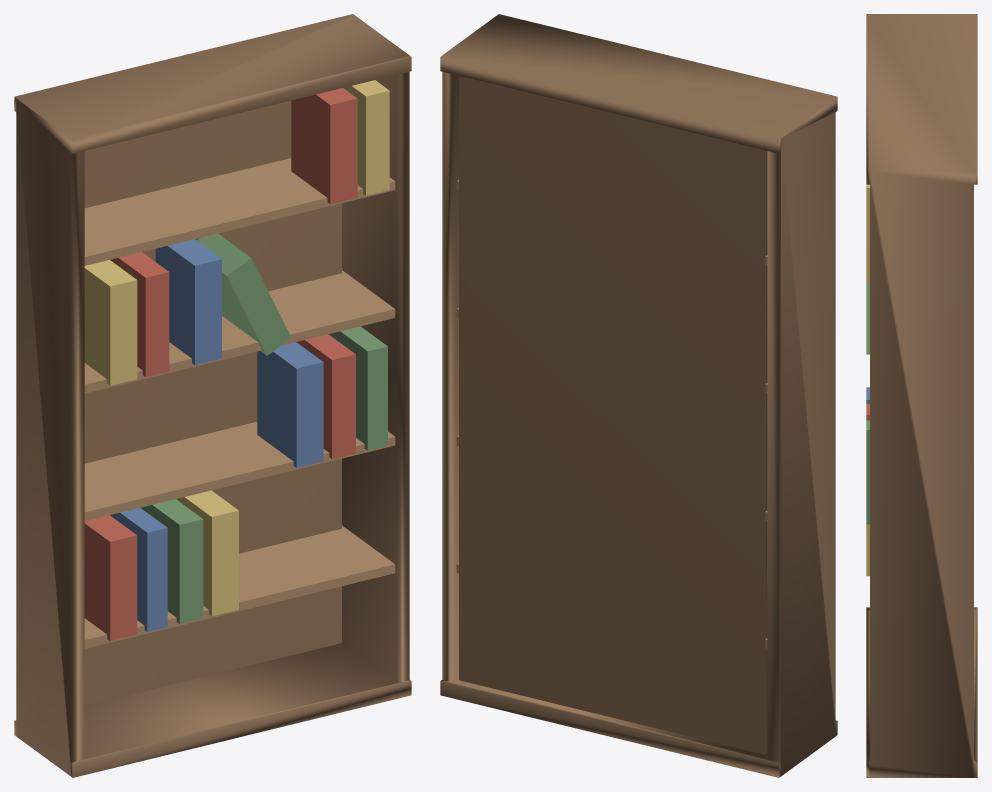
Rendered from bookshelf.glb.
3 renders of one model, left to right at view 1: azimuth 30°, elevation 25°; view 2: azimuth 150°, elevation 25°; view 3: azimuth 270°, elevation 25°, orthographic. The views are drawn at different scales.
Visible parts, largest first — view 1: merged_wood_dark, shelf_4, shelf_2, shelf_1, shelf_3, book_2a, book_4a, book_3c, book_1a, book_3a, book_3d, book_1c (+6 smaller); view 2: merged_wood_dark; view 3: merged_wood_dark, book_2c, book_4b, book_3d.
Part boxes in pixels (left/top/right/bottom): merged_wood_dark: left=14, top=14, right=411, bottom=777; shelf_4: left=84, top=158, right=395, bottom=265; shelf_2: left=84, top=422, right=395, bottom=520; shelf_1: left=84, top=525, right=395, bottom=648; shelf_3: left=84, top=270, right=395, bottom=393; book_2a: left=257, top=342, right=323, bottom=467; book_4a: left=291, top=88, right=357, bottom=204; book_3c: left=155, top=239, right=221, bottom=364; book_1a: left=84, top=515, right=137, bottom=640; book_3a: left=84, top=260, right=137, bottom=385; book_3d: left=197, top=233, right=291, bottom=355; book_1c: left=141, top=499, right=203, bottom=624; merged_wood_dark: left=440, top=14, right=837, bottom=777; merged_wood_dark: left=866, top=14, right=977, bottom=777; book_2c: left=866, top=420, right=869, bottom=524; book_4b: left=866, top=184, right=869, bottom=282; book_3d: left=866, top=282, right=869, bottom=354.
Bounding box in the file's own units: 1 × 1.8 × 0.3.
